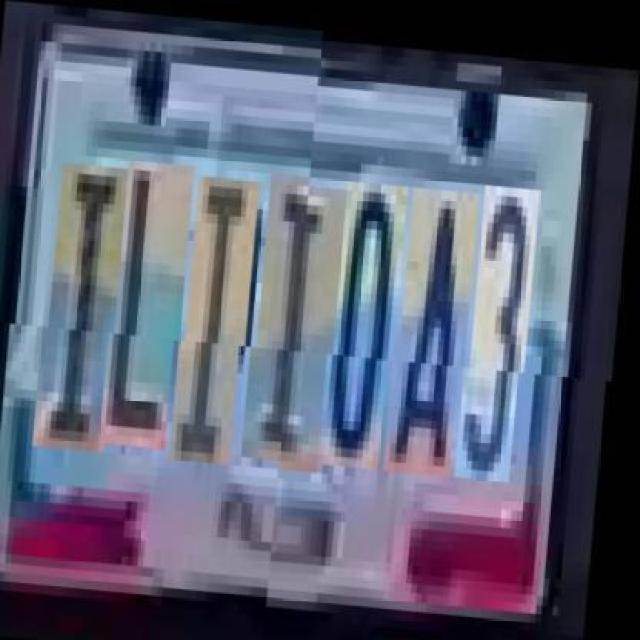3: (467, 175, 542, 472)
a: (397, 179, 481, 467)
i: (253, 177, 350, 466), (46, 171, 136, 460), (182, 181, 262, 468)
l: (112, 167, 196, 455)
o: (331, 174, 411, 461)
